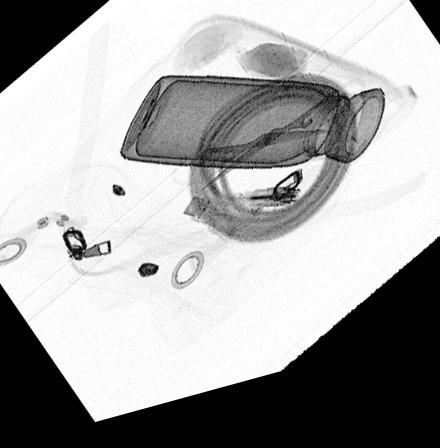Scissors: (169, 96, 368, 204)
